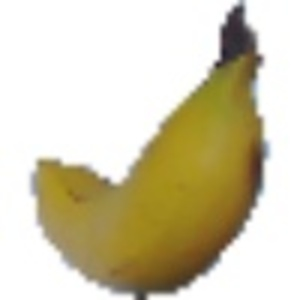banana: (31, 8, 272, 293)
